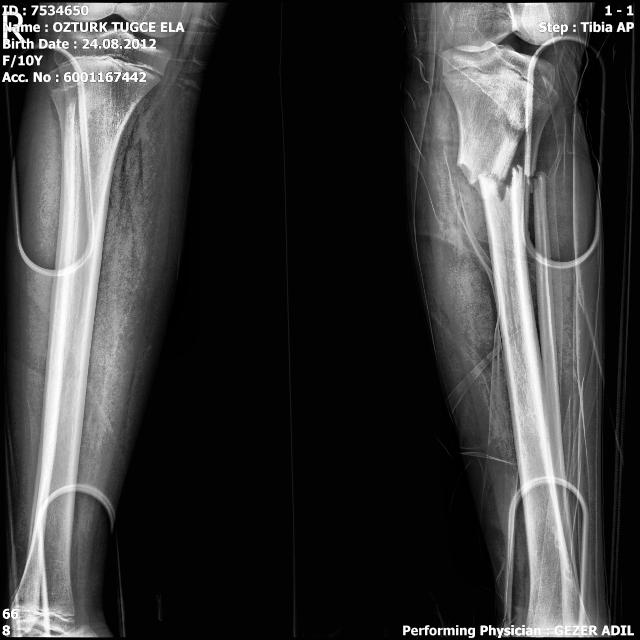Fracture: (455, 130, 551, 209)
